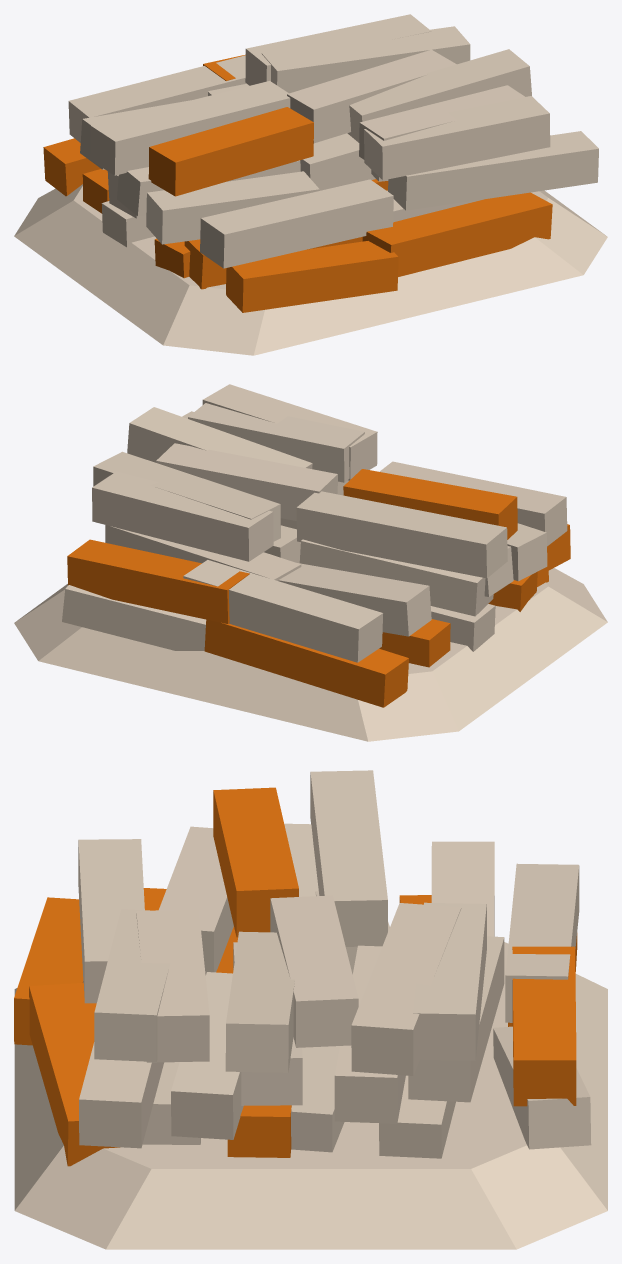
Rendered from SM_Cook_Topping_Pickle_01.fbx.
The picture shows the model from 3 angles, top to bottom: view 1: azimuth 30°, elevation 25°; view 2: azimuth 150°, elevation 25°; view 3: azimuth 270°, elevation 25°; orthographic projection. The views are drawn at different scales.
Parts seen in each view (by area): view 1: SM_Cook_Topping_Pickle_01; view 2: SM_Cook_Topping_Pickle_01; view 3: SM_Cook_Topping_Pickle_01.
Boxes of the visible parts, x1=… form: SM_Cook_Topping_Pickle_01: x1=14, y1=14, x2=607, y2=355; SM_Cook_Topping_Pickle_01: x1=14, y1=384, x2=607, y2=741; SM_Cook_Topping_Pickle_01: x1=14, y1=770, x2=607, y2=1249.
Bounding box in the file's own units: 0.124 × 0.0392 × 0.1041.
1 material, 1 textured.
